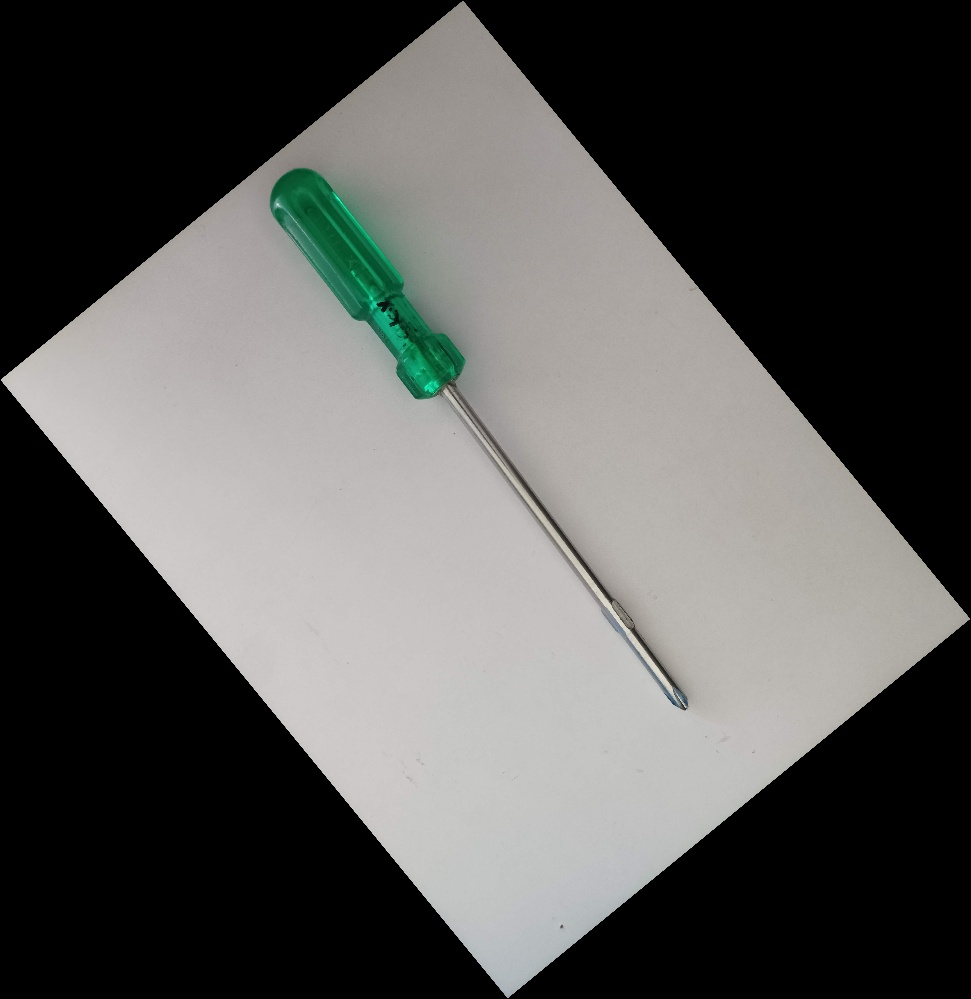screwdriver: (266, 161, 693, 713)
